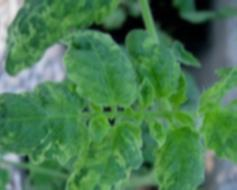Tomato leaf mosaic virus: (0, 79, 98, 165), (64, 26, 147, 113), (67, 117, 144, 190), (155, 123, 208, 190), (195, 102, 237, 185)
